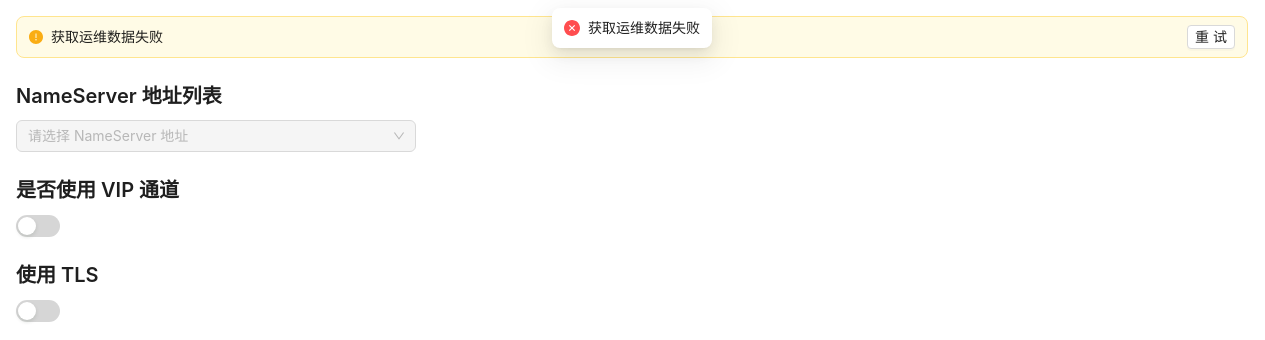
OpsPage › offers a retry instead of claiming the cluster does not support Ops config
The image size is (1265, 340).
Click the button "重 试": (1211, 37) [1187, 25, 1235, 49]
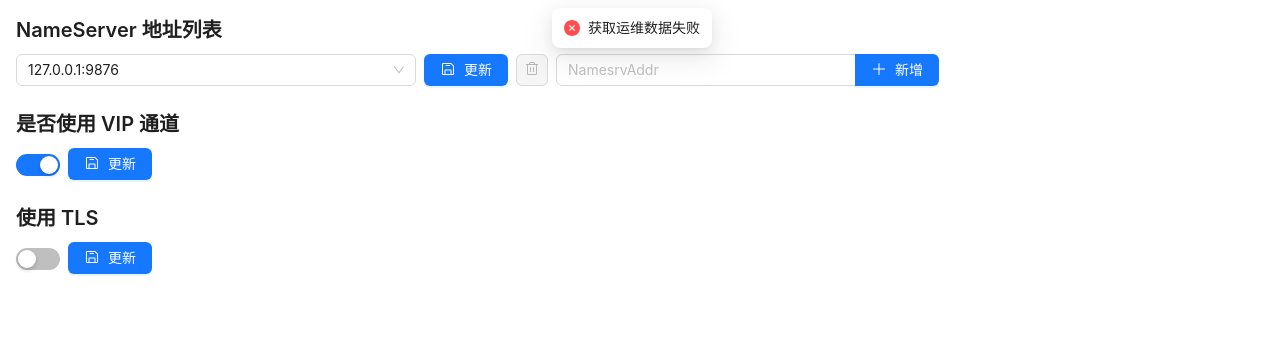
Expected: the field with placeholder "NamesrvAddr" is shown, [556, 54, 856, 86]
Expected: the button "重 试" is gone
